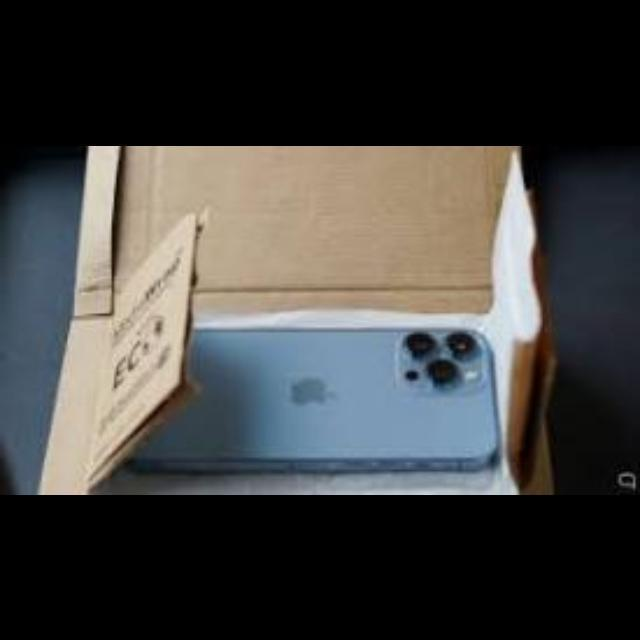PhoneUse: (125, 326, 499, 472)
